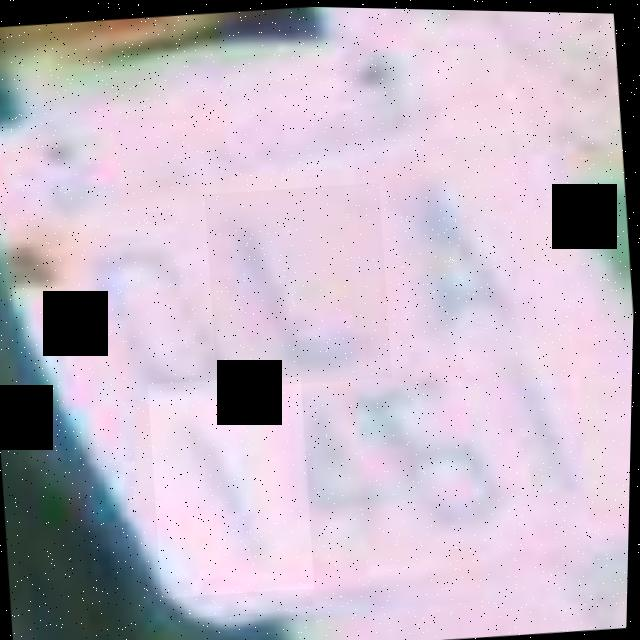1: (146, 372, 321, 600)
4: (458, 307, 620, 528)
J: (202, 178, 396, 391)
N: (349, 128, 544, 360)
O: (80, 216, 251, 411)
